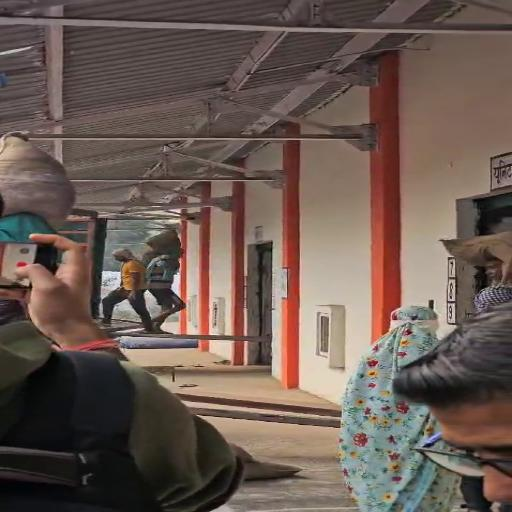bag: (4, 126, 88, 226)
